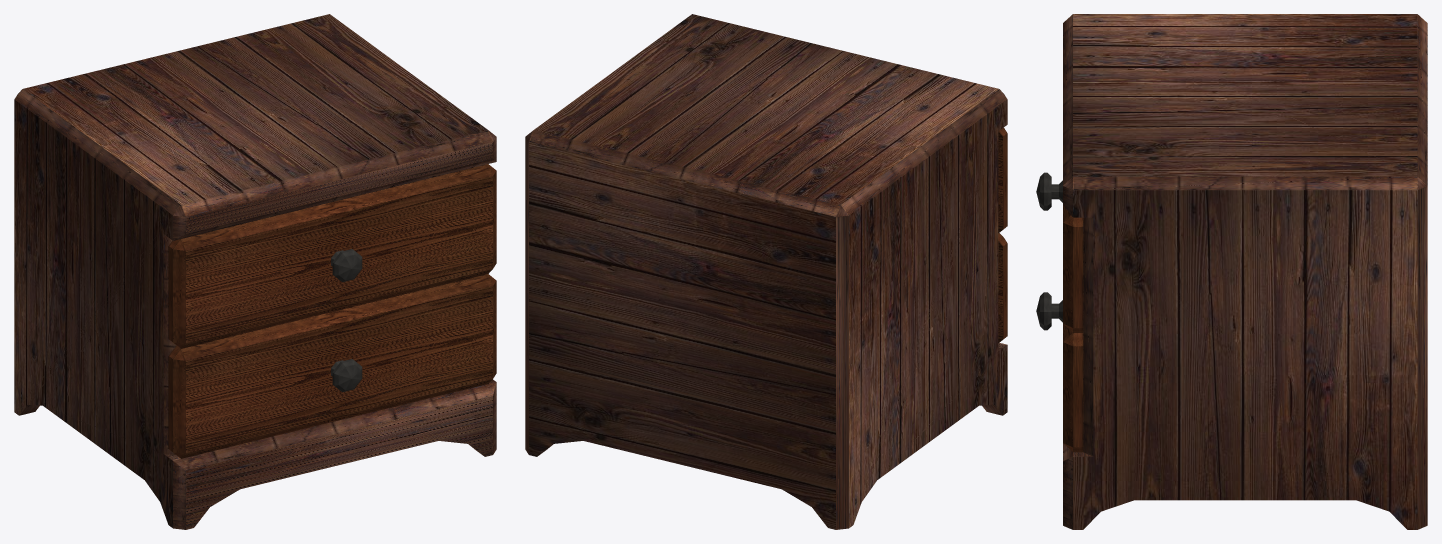
The model's file is dresser_single.glb.
3 renders of one model, left to right at view 1: azimuth 30°, elevation 25°; view 2: azimuth 150°, elevation 25°; view 3: azimuth 270°, elevation 25°, orthographic. The views are drawn at different scales.
Parts seen in each view (by area): view 1: object3, object2, object1; view 2: object3, object2, object1; view 3: object3, object2, object1.
Part boxes in pixels (left/top/right/bottom): object3: left=14, top=14, right=496, bottom=529; object2: left=168, top=274, right=496, bottom=458; object1: left=168, top=164, right=496, bottom=348; object3: left=525, top=14, right=1007, bottom=529; object2: left=998, top=233, right=1007, bottom=343; object1: left=998, top=127, right=1007, bottom=233; object3: left=1063, top=14, right=1427, bottom=529; object2: left=1036, top=292, right=1083, bottom=452; object1: left=1036, top=172, right=1083, bottom=332.
Bounding box in the file's own units: 1 × 0.95 × 0.9656.
Materials: 3 (3 with a texture image).
